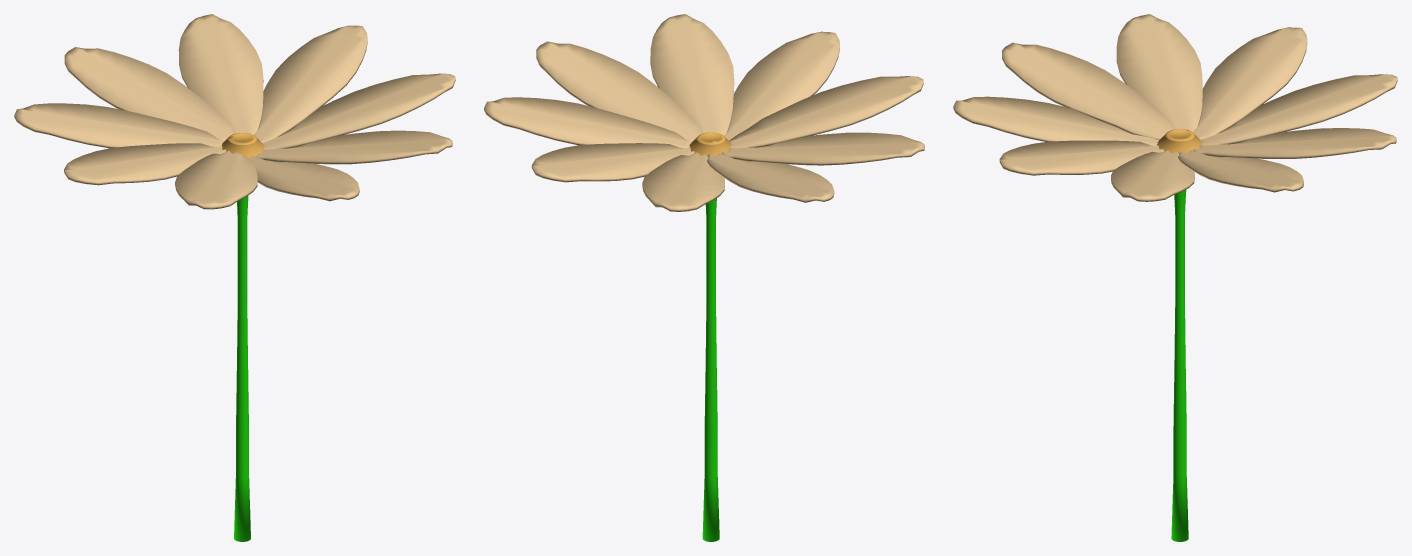
The model's file is Flower_Round_White (2).fbx.
3 views of the same model, side by side, from view 1: azimuth 30°, elevation 25°; view 2: azimuth 150°, elevation 25°; view 3: azimuth 270°, elevation 25° (orthographic).
Visible parts, largest first — view 1: petals, Circle.001, Circle.002; view 2: petals, Circle.001, Circle.002; view 3: petals, Circle.001, Circle.002.
Boxes of the visible parts, x1,y1,x2,y2 form: petals: (14,14,455,209); Circle.001: (234,196,250,541); Circle.002: (221,133,264,158); petals: (484,14,924,211); Circle.001: (702,198,719,541); Circle.002: (689,132,731,156); petals: (953,14,1397,201); Circle.001: (1171,190,1188,541); Circle.002: (1157,129,1201,153).
Bounding box in the file's own units: 23.97 × 25.7 × 23.7.
